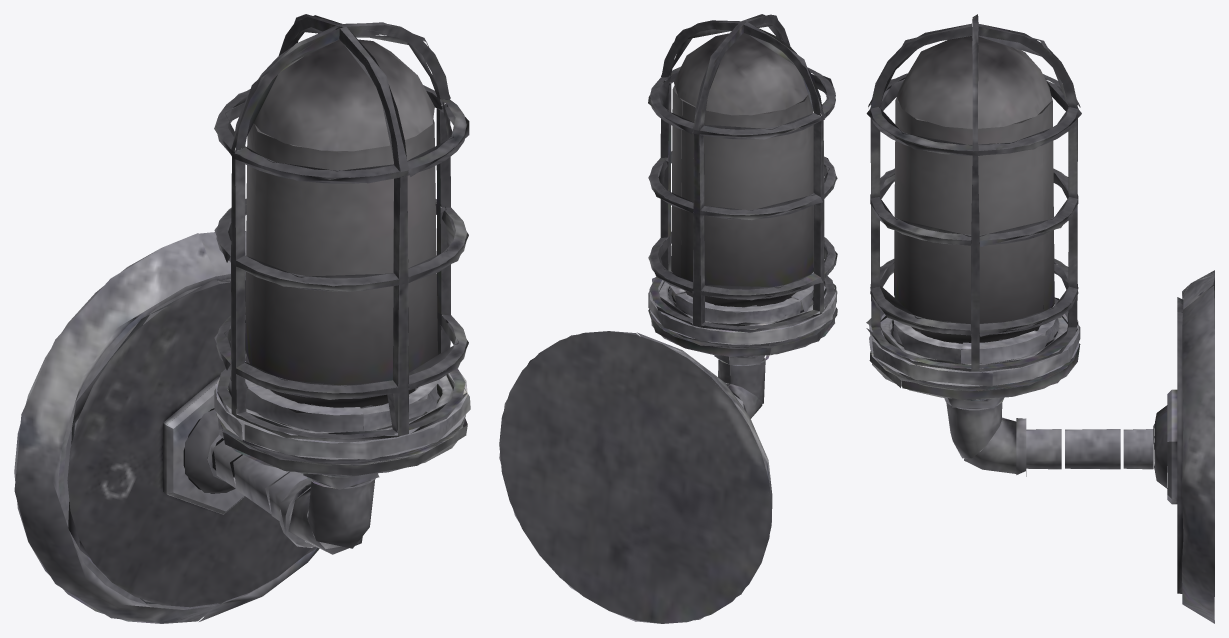
The model's file is industrial_caged_sconce.gltf.
The picture shows the model from 3 angles, left to right: view 1: azimuth 30°, elevation 25°; view 2: azimuth 150°, elevation 25°; view 3: azimuth 270°, elevation 25°; orthographic projection. The views are drawn at different scales.
Parts seen in each view (by area): view 1: industrial_caged_sconce; view 2: industrial_caged_sconce; view 3: industrial_caged_sconce.
Part boxes in pixels (<box>): industrial_caged_sconce: <box>14,14,470,623</box>; industrial_caged_sconce: <box>499,14,837,623</box>; industrial_caged_sconce: <box>866,14,1214,623</box>.
Bounding box in the file's own units: 0.2102 × 0.3849 × 0.2077.
1 material, 1 textured.
